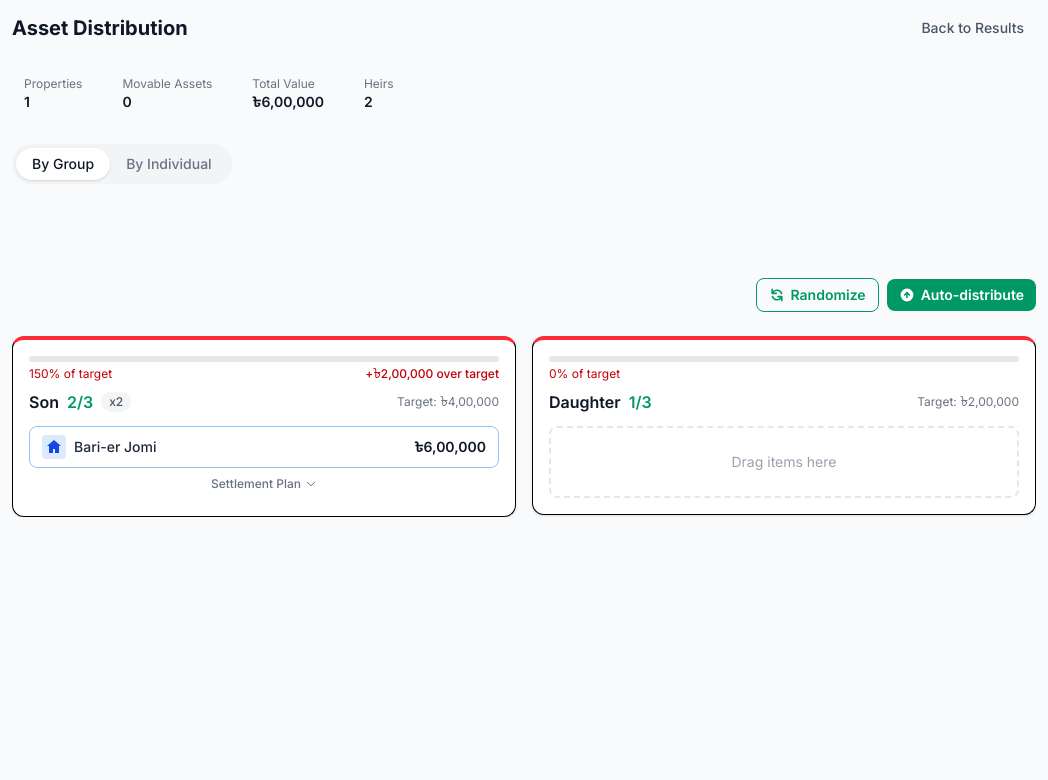
Test: DistributionPage view toggle › switches to individual view when By Individual tab is clicked
What coordinates should you click on to do the following:
click the tab "By Individual"
I would click on:
 (169, 164)
Its box is 110,148 -> 228,180.
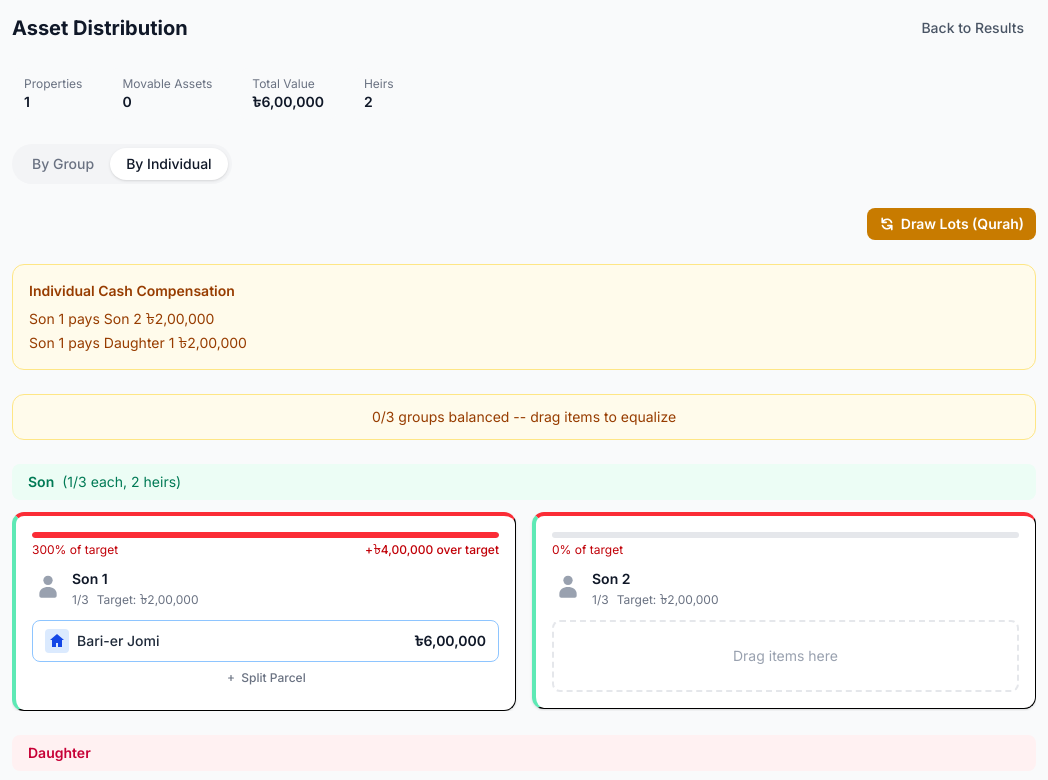
Expected: the button "Draw Lots (Qurah)" is shown, 867,208 -> 1036,240
